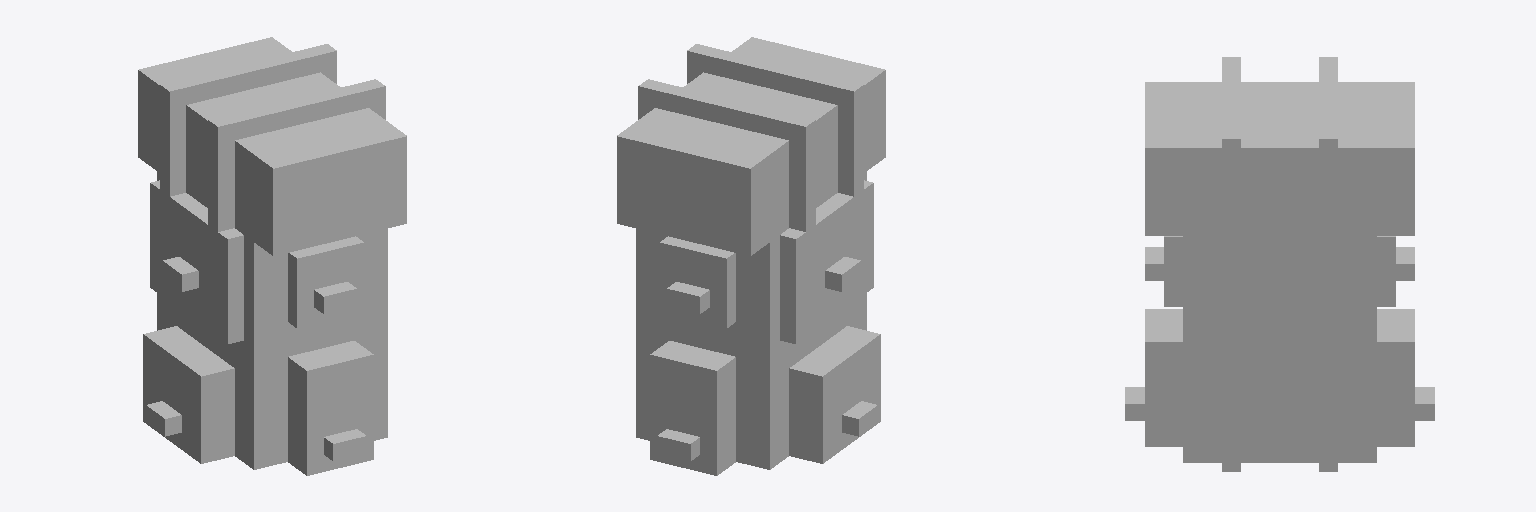
Rendered from tentPack.obj.
The picture shows the model from 3 angles: view 1: azimuth 30°, elevation 25°; view 2: azimuth 150°, elevation 25°; view 3: azimuth 270°, elevation 25°; orthographic projection.
Visible parts, largest first — view 1: cube; view 2: cube; view 3: cube.
Boxes of the visible parts, x1,y1,x2,y2 form: cube: [138, 37, 406, 475]; cube: [617, 37, 885, 475]; cube: [1125, 57, 1434, 471].
Bounding box in the file's own units: 0.75 × 1.19 × 1.